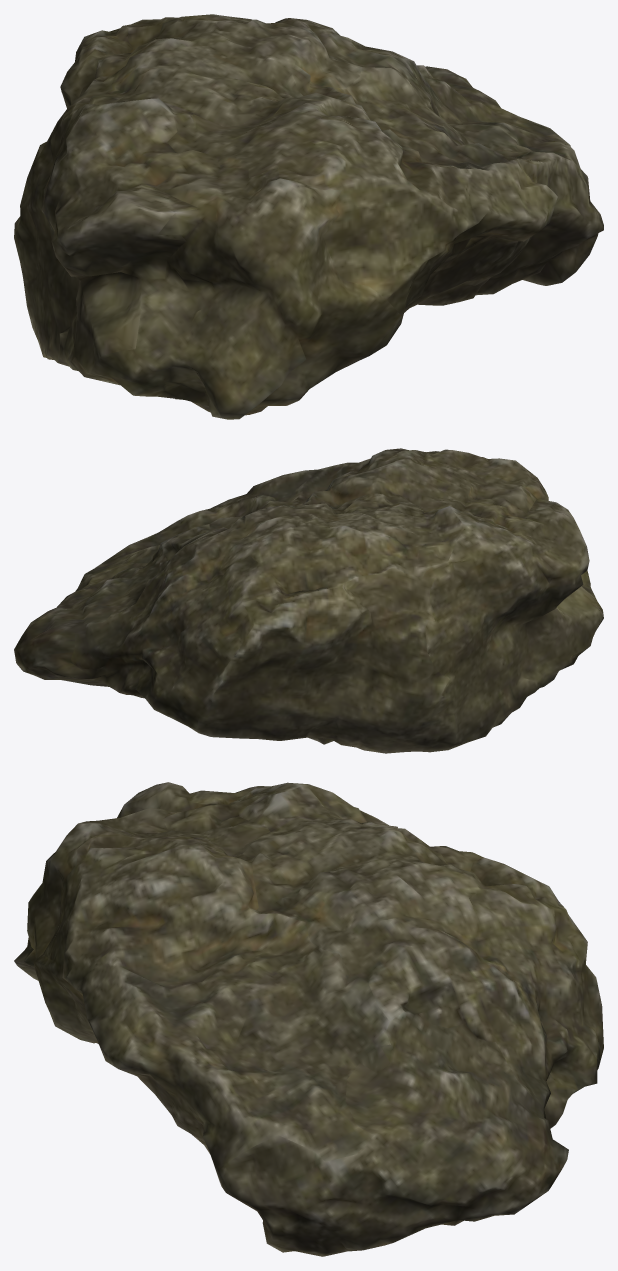
Rendered from Scan_MossStone_F.fbx.
3 views of the same model, one above another, from view 1: azimuth 30°, elevation 25°; view 2: azimuth 150°, elevation 25°; view 3: azimuth 270°, elevation 25° (orthographic). The views are drawn at different scales.
Visible parts, largest first — view 1: Scan_MossStone_F_LOD0; view 2: Scan_MossStone_F_LOD0; view 3: Scan_MossStone_F_LOD0.
Boxes of the visible parts, box(x1,y1,x2,y2) form: Scan_MossStone_F_LOD0: box(14, 14, 603, 419); Scan_MossStone_F_LOD0: box(14, 448, 603, 753); Scan_MossStone_F_LOD0: box(14, 782, 603, 1256).
Size of what is drawn, in the model's own units: 1.58 by 0.736 by 1.44.
